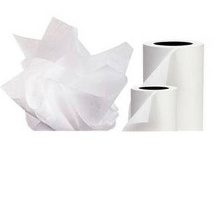tissue: (0, 11, 137, 130), (137, 31, 210, 130), (126, 78, 182, 130)
